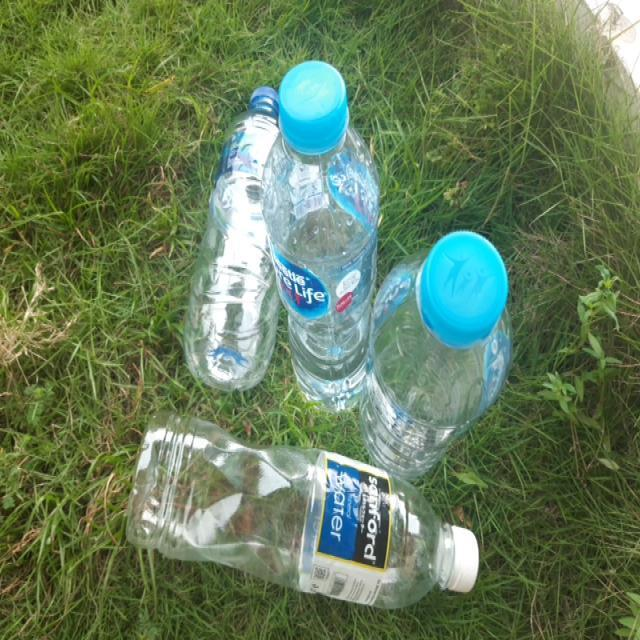PET Bottle: (134, 403, 491, 610), (260, 76, 382, 416), (378, 248, 518, 478), (189, 86, 290, 388)
